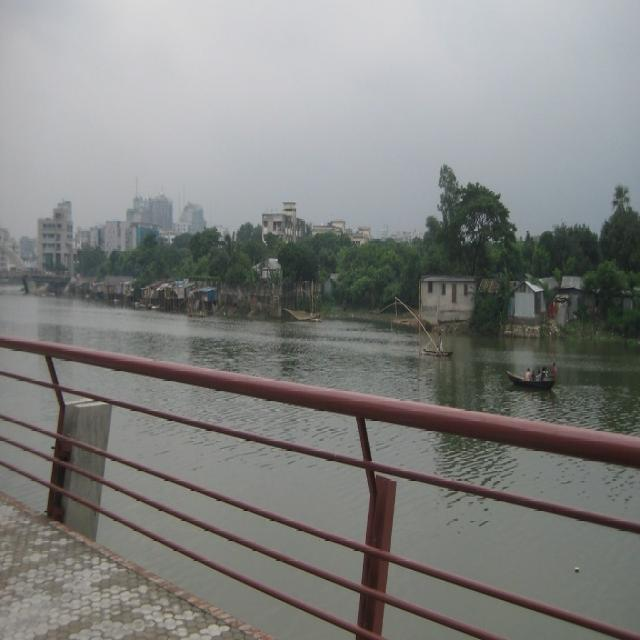boat: (498, 366, 558, 392)
